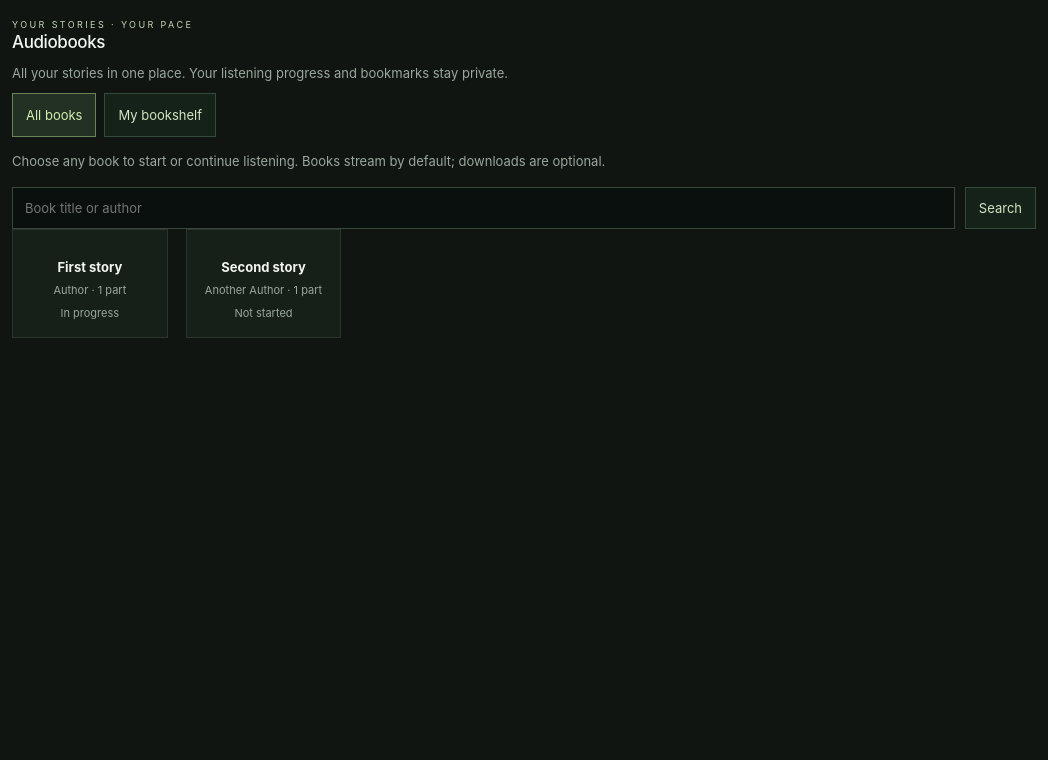
Test case: opens an unstarted source book directly with one CSRF-protected creation
The width and height of the screenshot is (1048, 760).
Click the button "Second story Another Author · 1 part Not started".
click(264, 284)  # box 186,229 -> 341,338
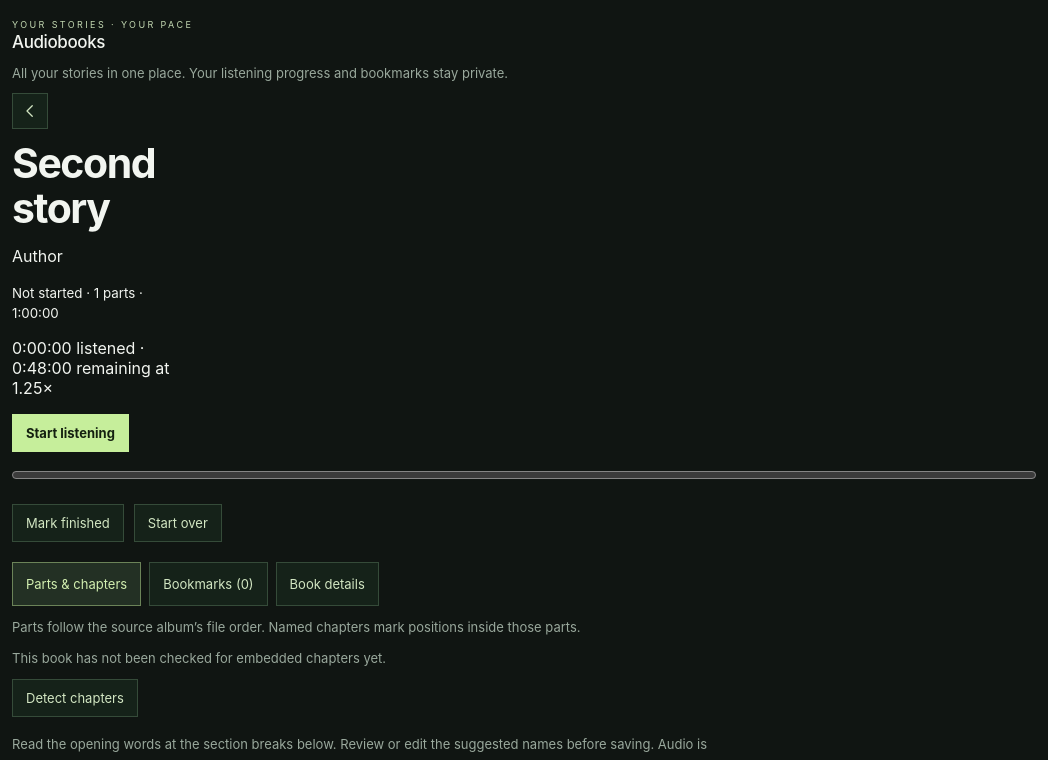
Expected: the heading "Second story" is shown, 12,138 -> 155,233
Result: the button "Start listening" is shown at 12,414 -> 129,452
